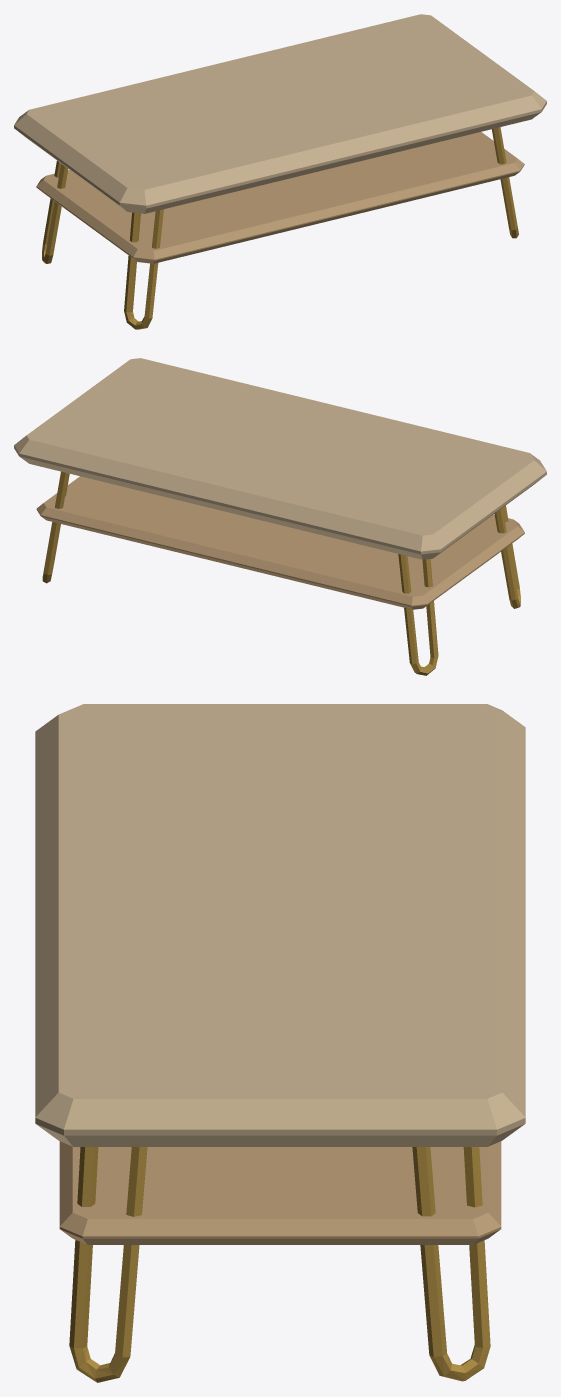
The model's file is home_coffeetable.glb.
3 views of the same model, one above another, from view 1: azimuth 30°, elevation 25°; view 2: azimuth 150°, elevation 25°; view 3: azimuth 270°, elevation 25° (orthographic). The views are drawn at different scales.
Parts seen in each view (by area): view 1: table; view 2: table; view 3: table.
Boxes of the visible parts, <box> form: table: <box>14,14,546,329</box>; table: <box>14,358,546,675</box>; table: <box>35,704,525,1382</box>.
Bounding box in the file's own units: 1.2 × 0.4 × 0.6001.
